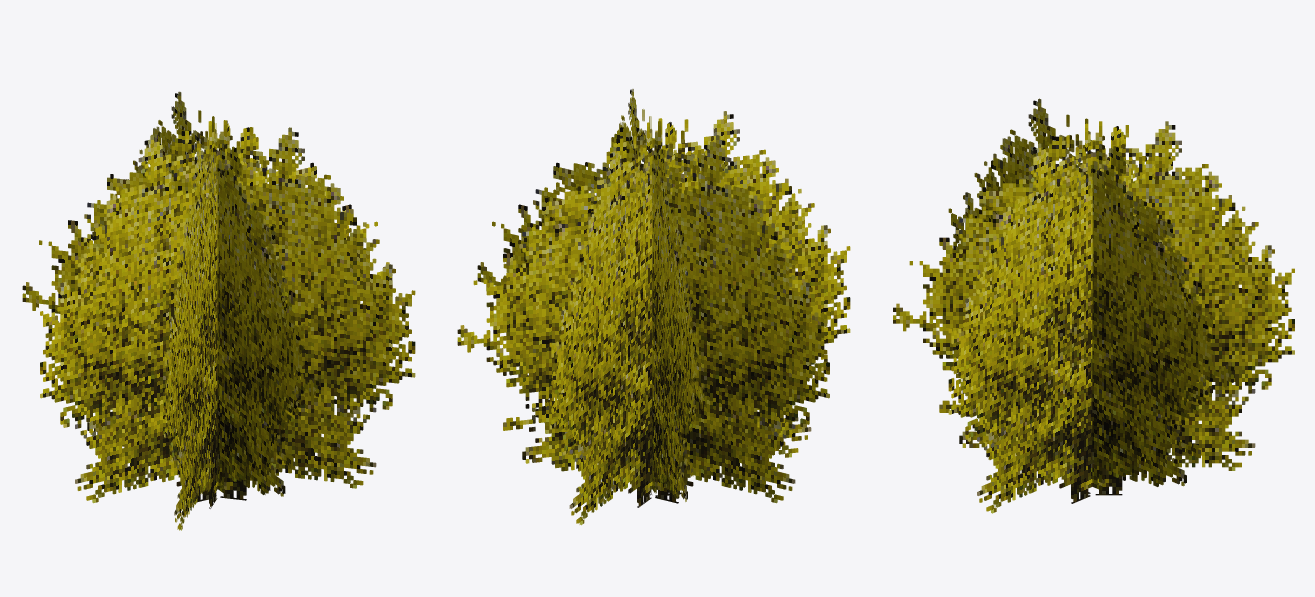
File: bush03.glb
The picture shows the model from 3 angles, left to right: view 1: azimuth 30°, elevation 25°; view 2: azimuth 150°, elevation 25°; view 3: azimuth 270°, elevation 25°; orthographic projection.
Visible parts, largest first — view 1: bush03; view 2: bush03; view 3: bush03.
Part boxes in pixels (<box>): bush03: <box>22,91,415,530</box>; bush03: <box>457,89,850,525</box>; bush03: <box>893,98,1294,513</box>.
Size of the model in its own units: 1.15 by 1.2 by 1.15.
1 material, 1 textured.
